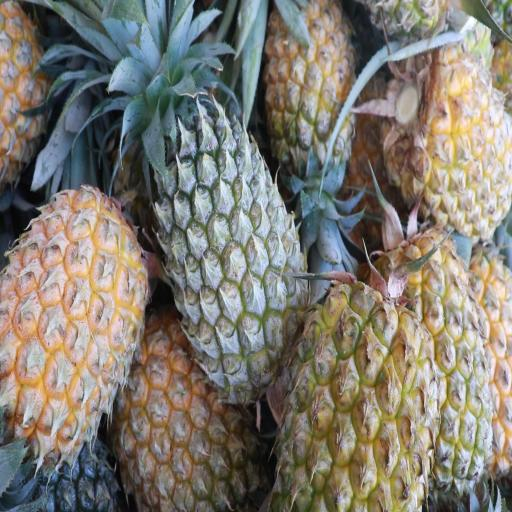------------------------------: (262, 0, 356, 192)
Pineapple - v8 v1: (0, 192, 144, 446), (274, 288, 437, 512), (375, 243, 489, 480), (122, 328, 262, 510), (387, 50, 512, 226)
